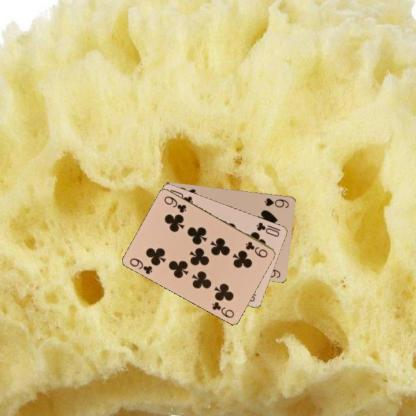10c: (254, 220, 281, 238)
6s: (262, 195, 290, 209)
9c: (127, 256, 154, 276), (243, 238, 269, 258)
